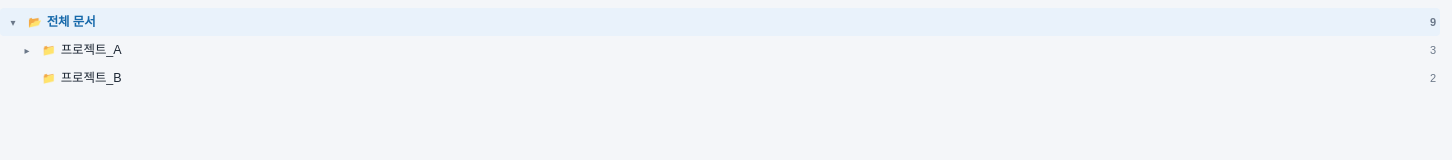
Scenario: FolderTree › collapses again
The image size is (1452, 160).
Step 1. Click the button named "프로젝트_A 펼치기" → x=27, y=50, box [18, 39, 36, 61]
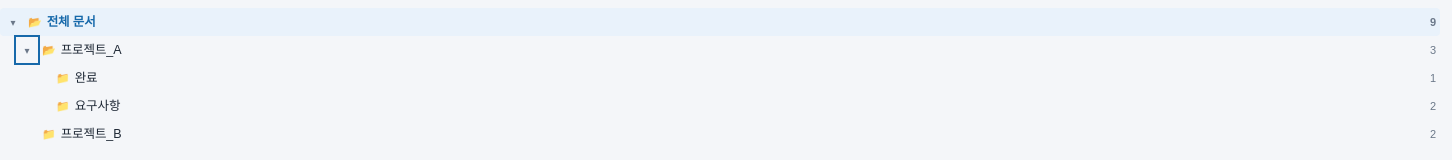
Step 2. Click the button named "프로젝트_A 접기" → x=27, y=50, box [18, 39, 36, 61]
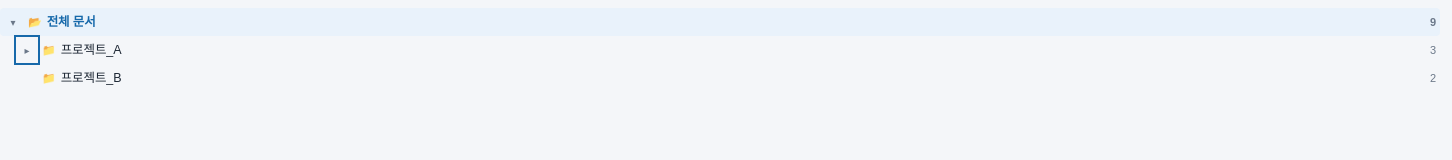
Result: the button "요구사항" is gone
